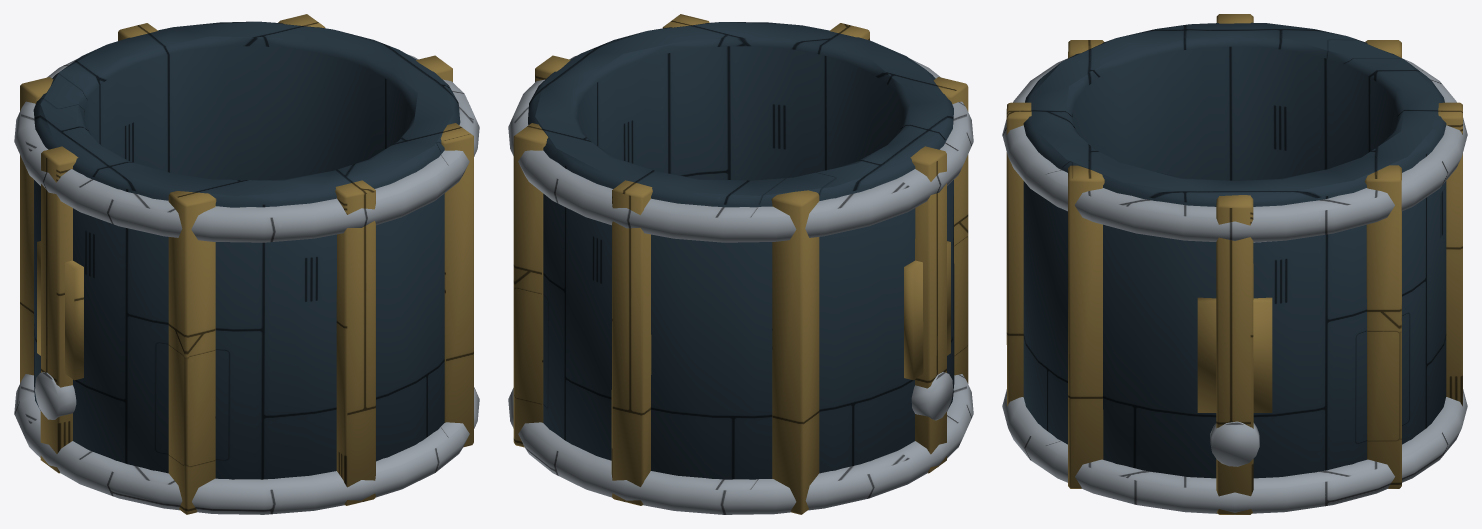
File: ops_reactor_containment_shell_lod1.glb
3 views of the same model, side by side, from view 1: azimuth 30°, elevation 25°; view 2: azimuth 150°, elevation 25°; view 3: azimuth 270°, elevation 25° (orthographic).
Visible parts, largest first — view 1: LOD1_Armor, LOD1_Hull, LOD1_BrushedMetal; view 2: LOD1_Armor, LOD1_Hull, LOD1_BrushedMetal; view 3: LOD1_Armor, LOD1_Hull, LOD1_BrushedMetal.
Boxes of the visible parts, x1,y1,x2,y2 form: LOD1_Armor: (33,21,460,479); LOD1_Hull: (20,14,473,514); LOD1_BrushedMetal: (14,54,479,514); LOD1_Armor: (528,22,954,479); LOD1_Hull: (513,14,968,514); LOD1_BrushedMetal: (508,55,973,514); LOD1_Armor: (1023,22,1446,478); LOD1_Hull: (1006,14,1462,514); LOD1_BrushedMetal: (1002,58,1467,514).
Bounding box in the file's own units: 2.44 × 1.82 × 2.44.
Materials: 3 (3 with a texture image).
